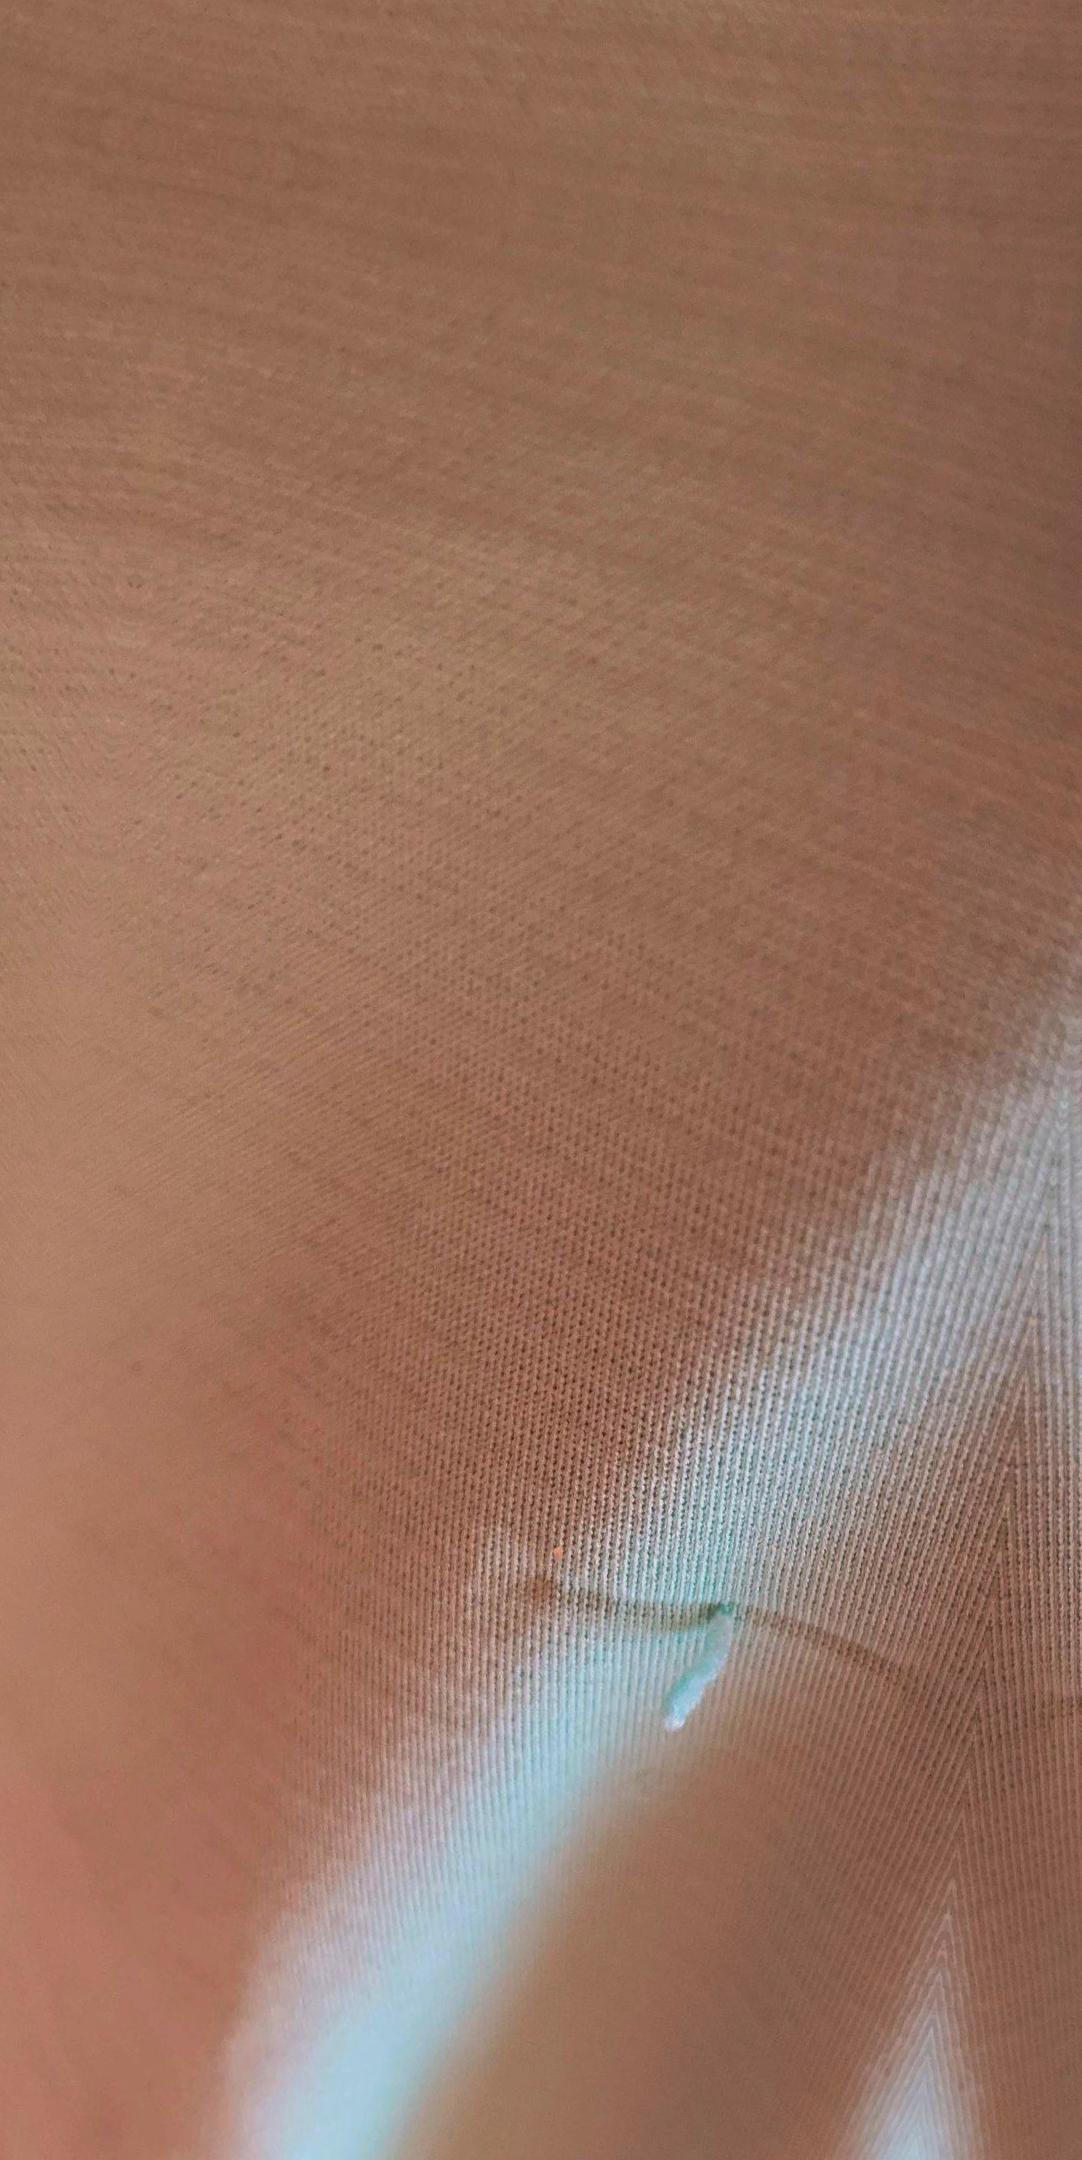snag: (597, 1530, 828, 1777)
